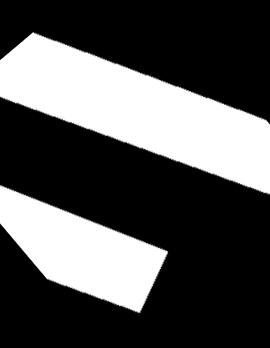parkingspot: (0, 32, 270, 194), (0, 185, 168, 313)
